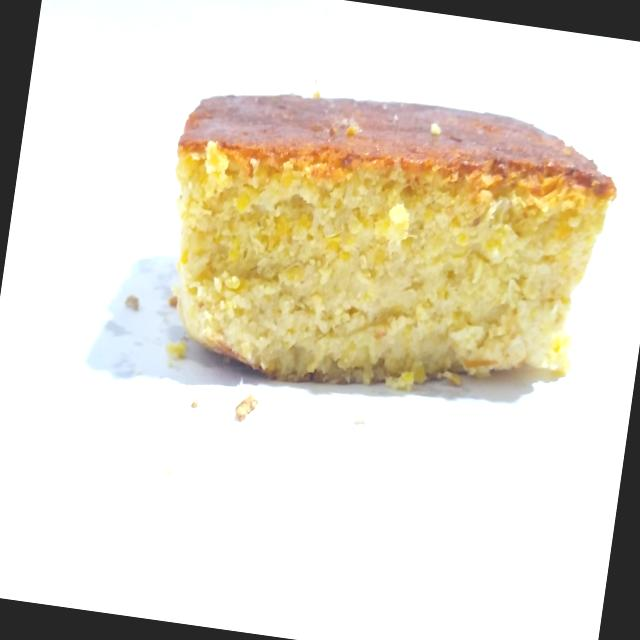Chipa_Guazu: (131, 52, 627, 439)
